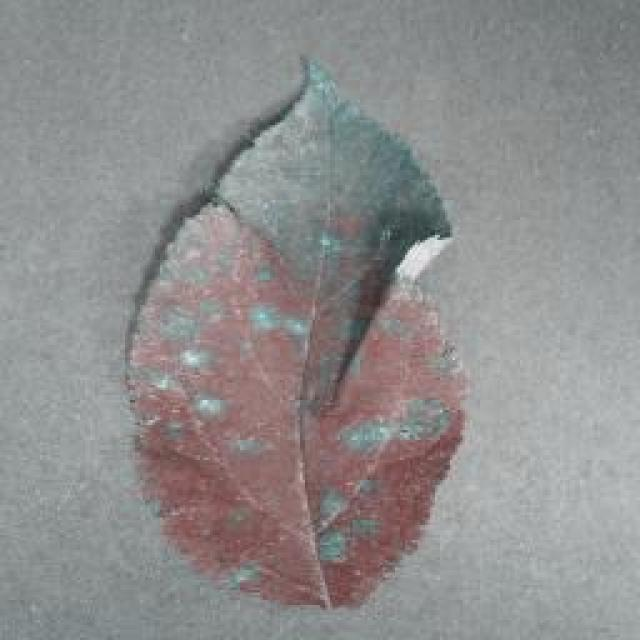apple rust disease: (120, 52, 470, 610)
